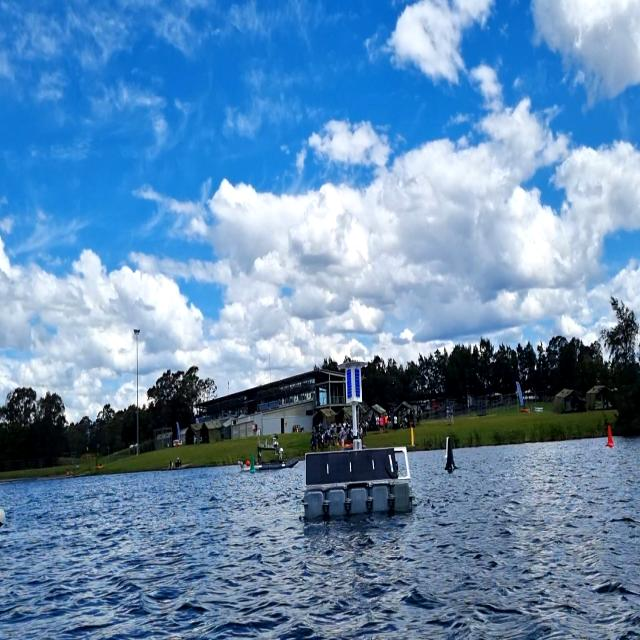led: (354, 368, 361, 400), (346, 368, 353, 398)
